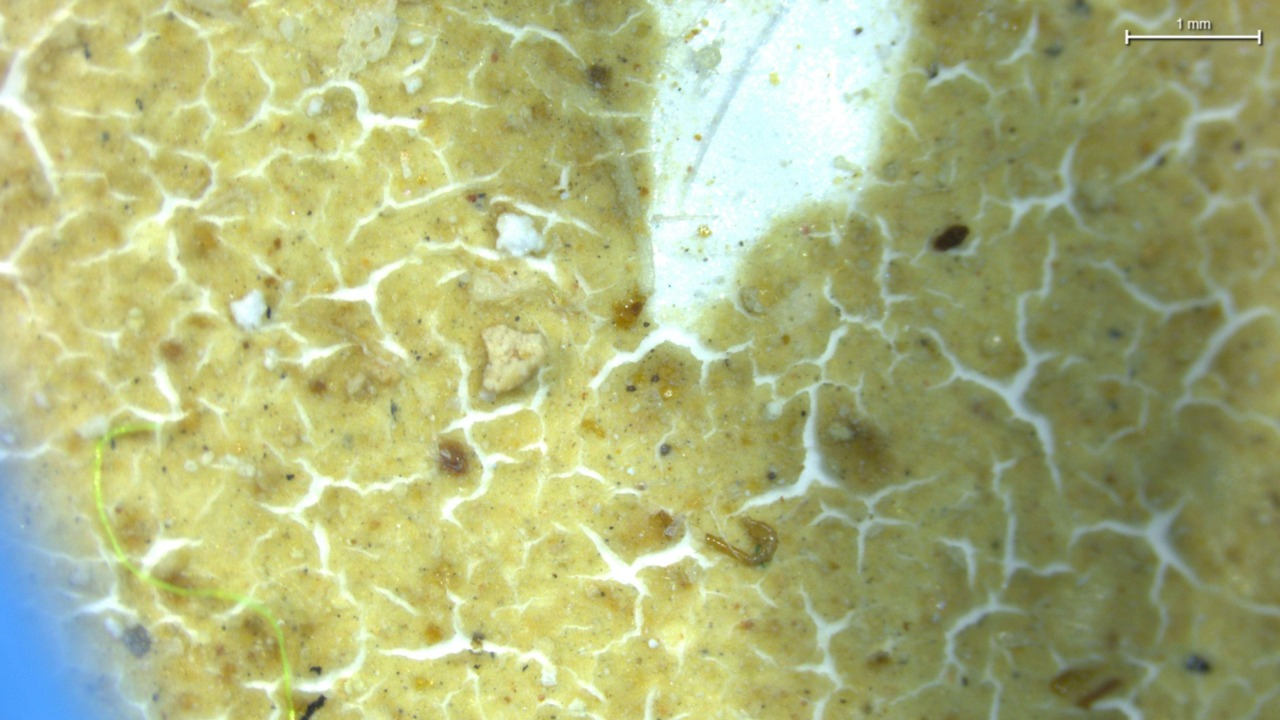microplastic_fragment: (482, 326, 555, 399), (496, 213, 543, 261), (233, 292, 270, 330)
